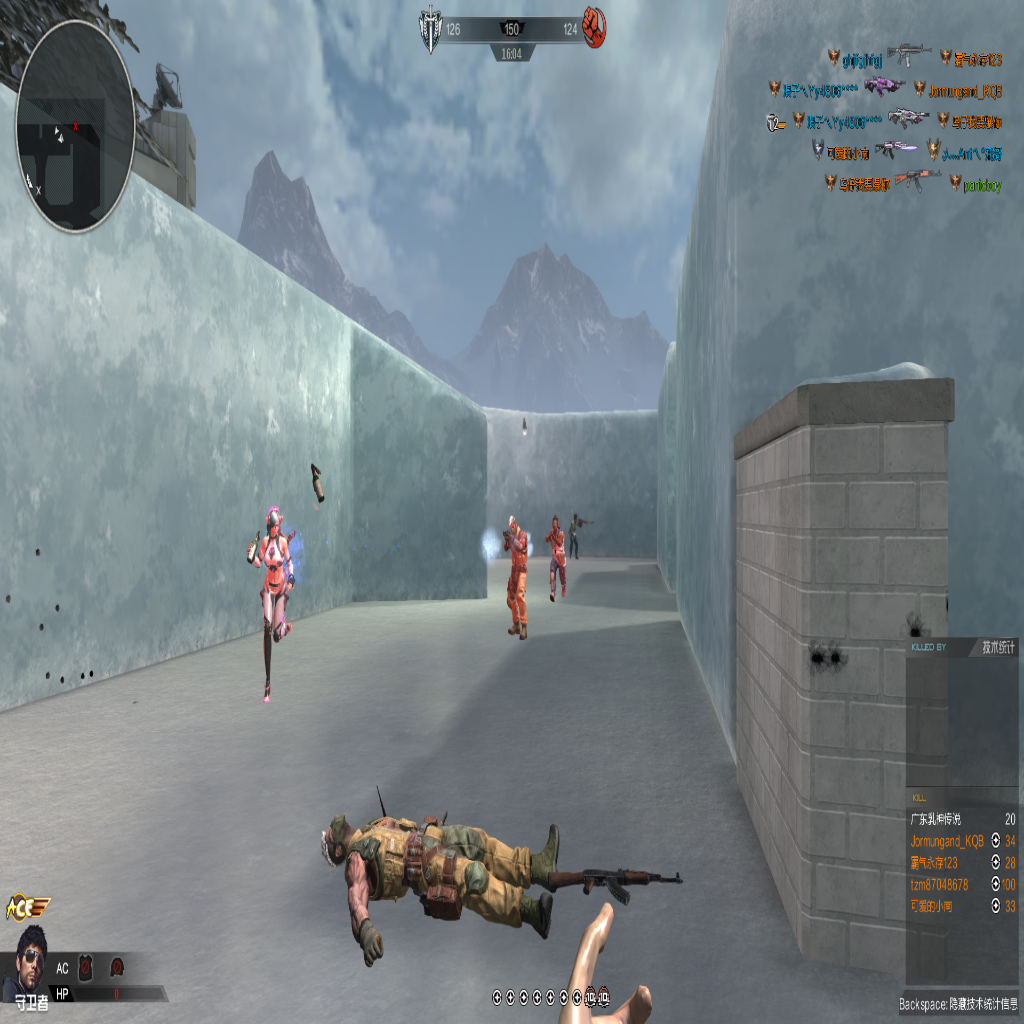tt: (254, 508, 293, 704), (505, 511, 529, 640), (545, 514, 567, 601), (568, 513, 581, 560)
